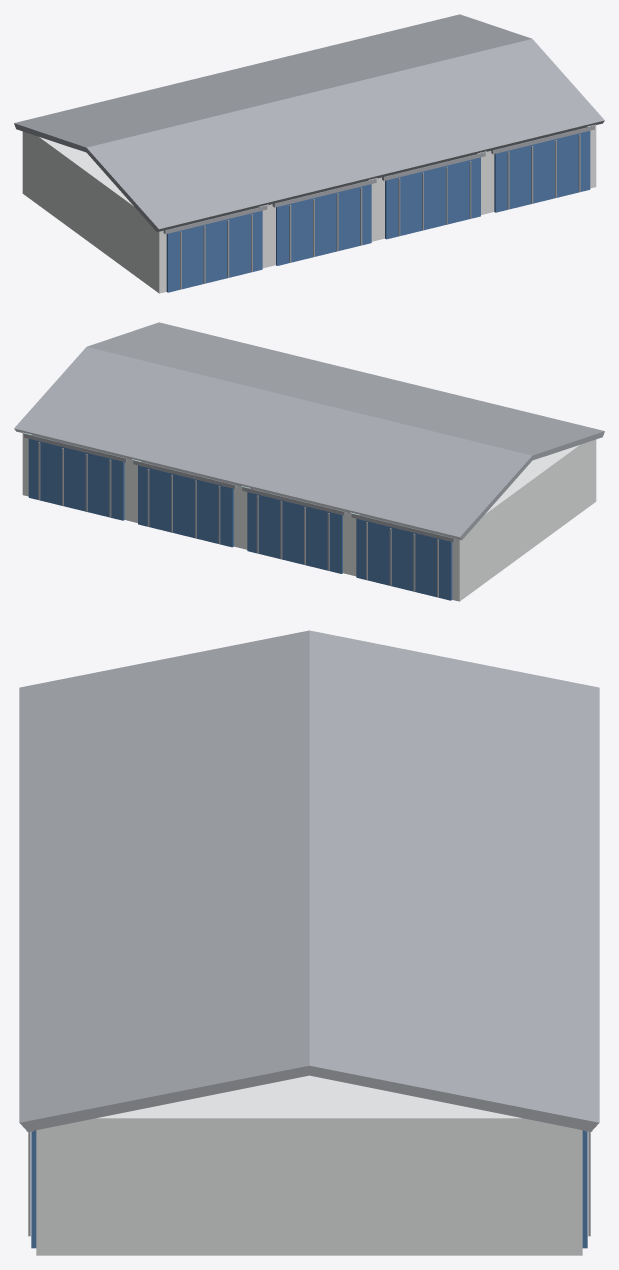
Rendered from aircraft-fleet-and-airfield-t-hangar-row-35698132__32823.glb.
3 views of the same model, one above another, from view 1: azimuth 30°, elevation 25°; view 2: azimuth 150°, elevation 25°; view 3: azimuth 270°, elevation 25° (orthographic). The views are drawn at different scales.
Visible parts, largest first — view 1: t-hangar-row; view 2: t-hangar-row; view 3: t-hangar-row.
Part boxes in pixels (box(x1,y1,x2,y2)): t-hangar-row: box(14, 14, 604, 293); t-hangar-row: box(14, 322, 604, 601); t-hangar-row: box(19, 630, 599, 1255).
Size of the model in its own units: 24.5 by 5.1 by 13.8.
